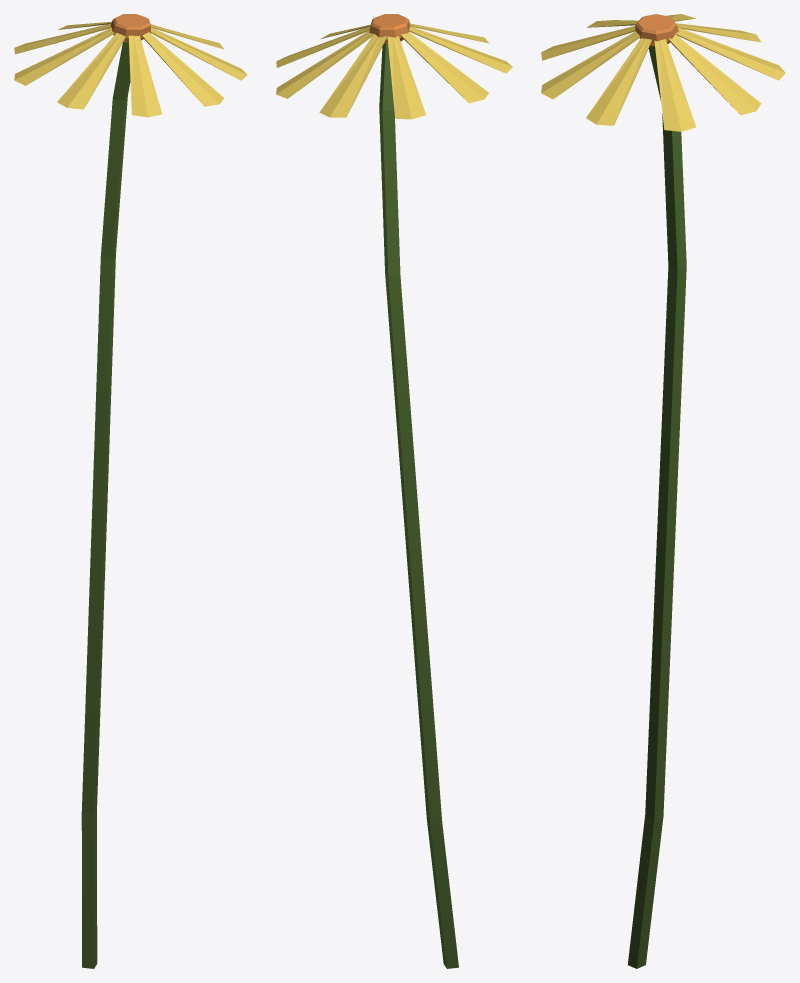
Rendered from Env_Flowers_07.obj.
3 views of the same model, side by side, from view 1: azimuth 30°, elevation 25°; view 2: azimuth 150°, elevation 25°; view 3: azimuth 270°, elevation 25° (orthographic). The views are drawn at different scales.
Parts seen in each view (by area): view 1: Env_Flowers_07; view 2: Env_Flowers_07; view 3: Env_Flowers_07.
Boxes of the visible parts, box(x1,y1,x2,y2) form: Env_Flowers_07: box(14, 14, 247, 968); Env_Flowers_07: box(276, 14, 512, 968); Env_Flowers_07: box(541, 14, 785, 968).
Bounding box in the file's own units: 0.1193 × 0.5149 × 0.1177.
Materials: 1 (1 with a texture image).
